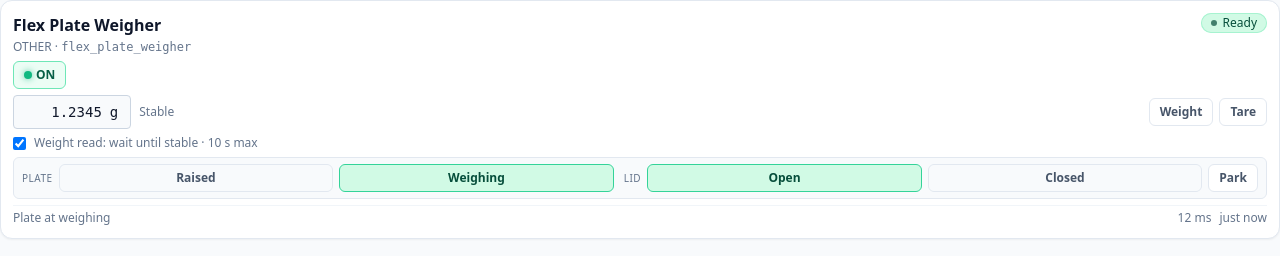
PlateWeigherTile › explains a lid interlock 412 with the verb that clears it
The image size is (1280, 256).
Click the button with aria-label "Raise the plate off the pan".
click(196, 178)  # box x1=59 y1=164 x2=333 y2=192
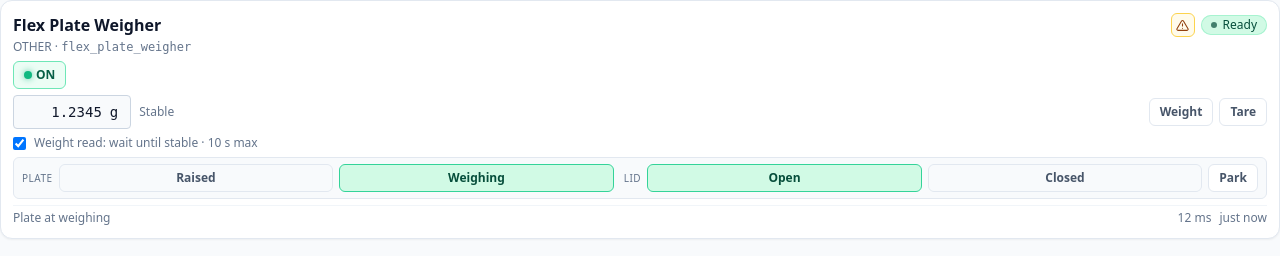
Click the button named "Action error details".
click(1182, 25)  # box x1=1170 y1=13 x2=1194 y2=37
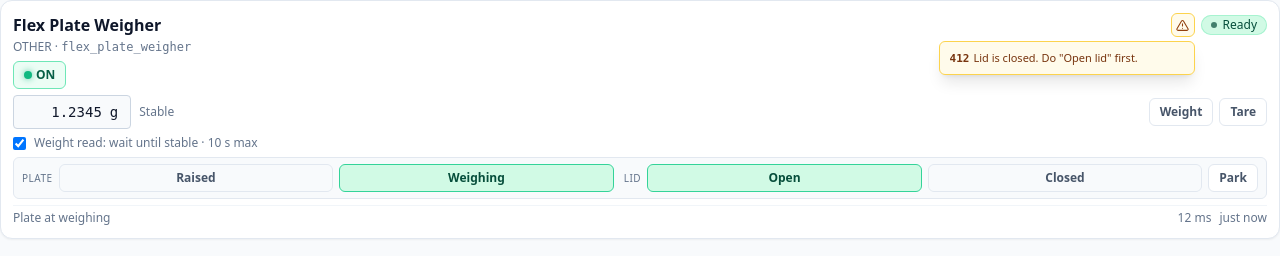
Expected: the text "412Lid is closed. Do \"Open lid\" first." is shown, x1=938 y1=41 x2=1194 y2=75
